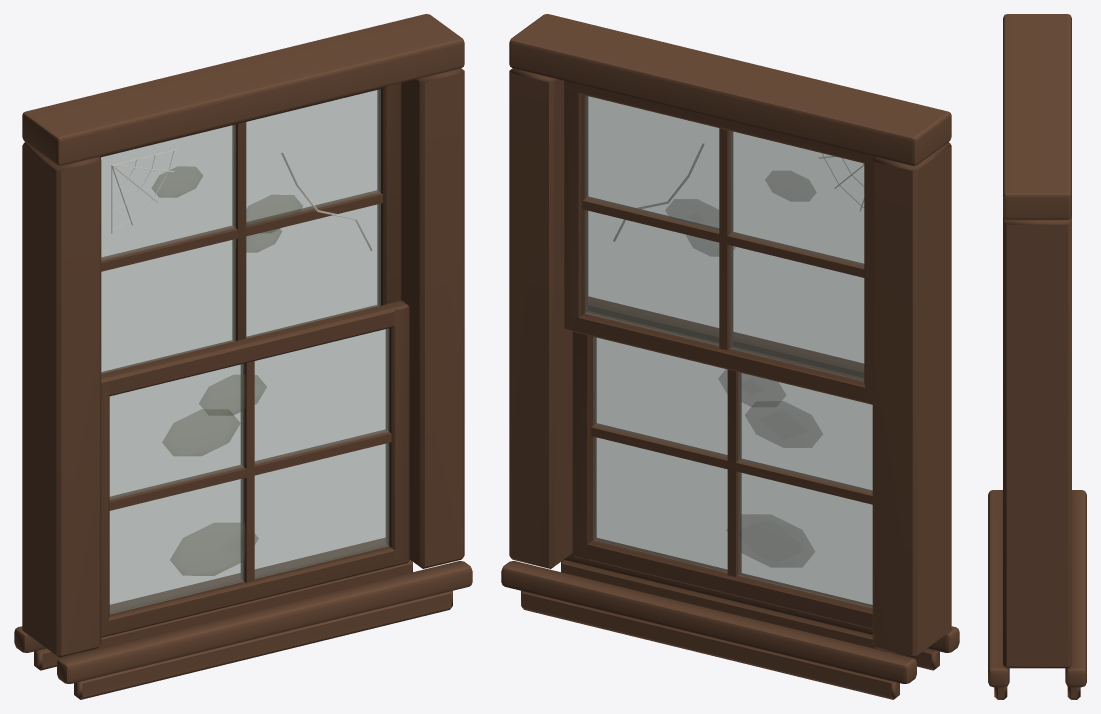
The model's file is window_grimy.glb.
The picture shows the model from 3 angles, left to right: view 1: azimuth 30°, elevation 25°; view 2: azimuth 150°, elevation 25°; view 3: azimuth 270°, elevation 25°; orthographic projection. The views are drawn at different scales.
Parts seen in each view (by area): view 1: window_grimy; view 2: window_grimy; view 3: window_grimy.
Boxes of the visible parts, left/top/right/bottom form: window_grimy: left=14, top=14, right=472, bottom=699; window_grimy: left=501, top=14, right=959, bottom=699; window_grimy: left=988, top=14, right=1086, bottom=699.
Bounding box in the file's own units: 1 × 1.32 × 0.23.
